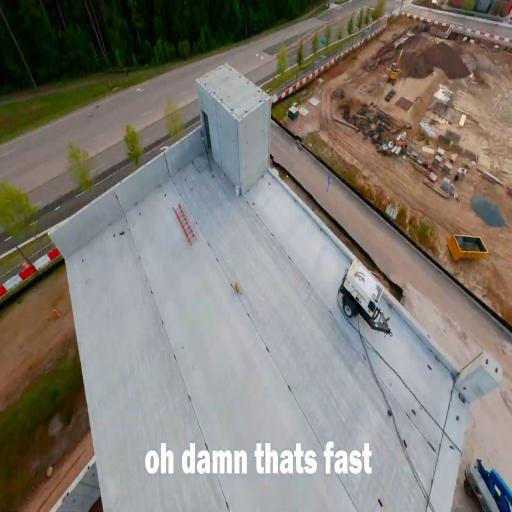uav: (325, 176, 331, 194)
